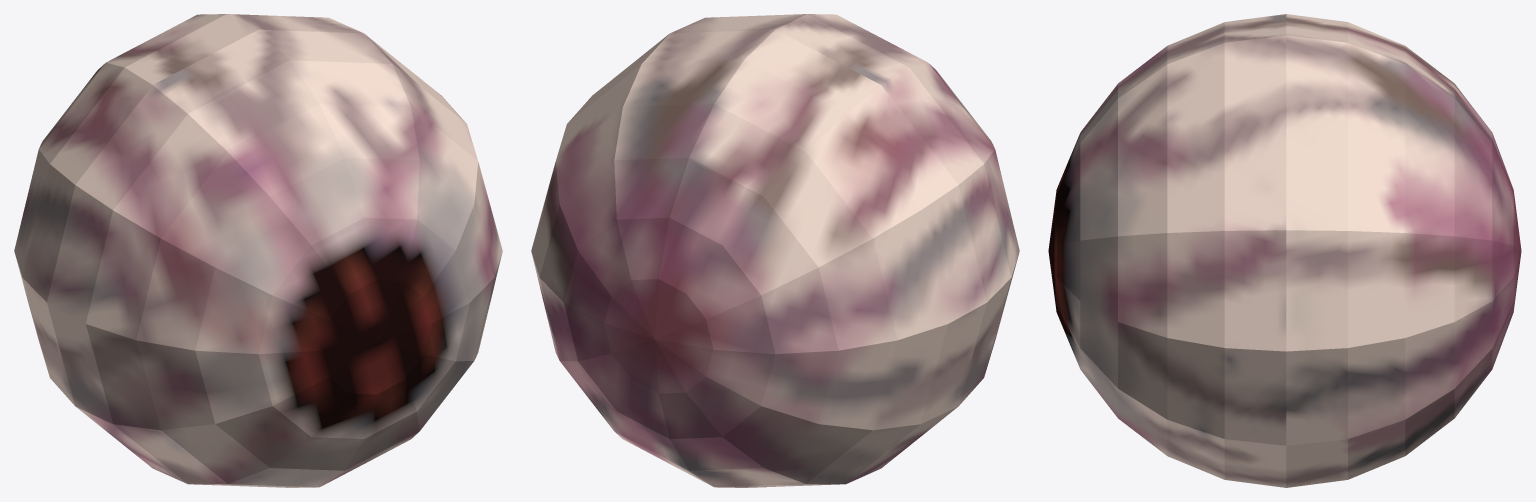
Rendered from eyeball-home.glb.
3 renders of one model, left to right at view 1: azimuth 30°, elevation 25°; view 2: azimuth 150°, elevation 25°; view 3: azimuth 270°, elevation 25°, orthographic. The views are drawn at different scales.
Parts seen in each view (by area): view 1: nolids; view 2: nolids; view 3: nolids.
Boxes of the visible parts, x1,y1,x2,y2 form: nolids: (14, 14, 502, 487); nolids: (531, 14, 1019, 487); nolids: (1048, 14, 1521, 487).
Bounding box in the file's own units: 2 × 2 × 1.99.
Materials: 1 (1 with a texture image).
